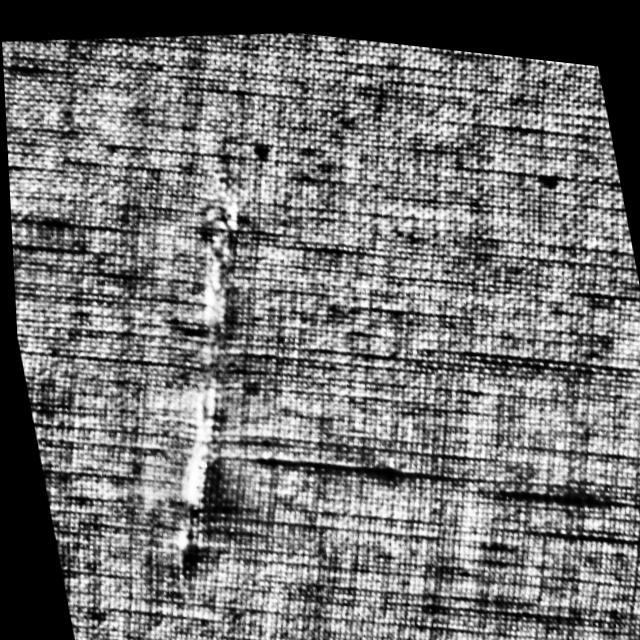Stitch: (104, 172, 308, 595)
